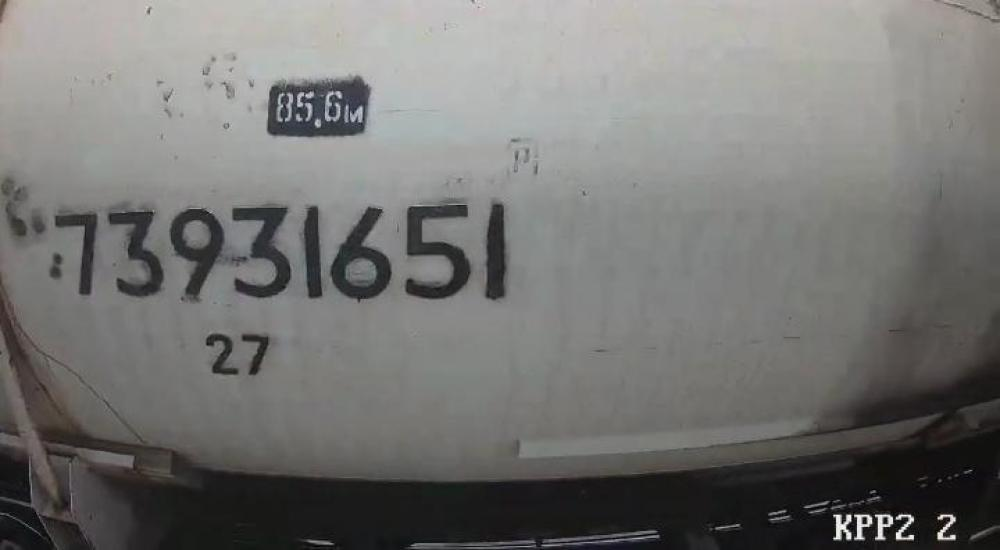Wagon-number: (48, 194, 514, 307)
